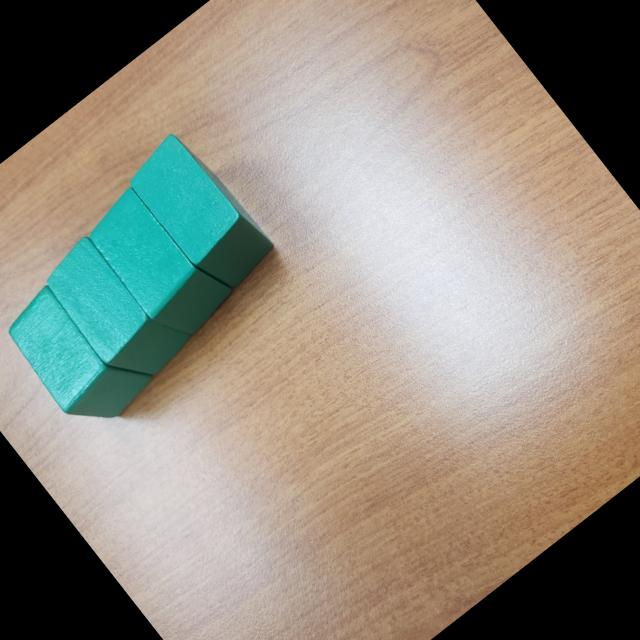green: (35, 222, 199, 398), (78, 173, 241, 350), (120, 124, 282, 300), (0, 266, 160, 442)
